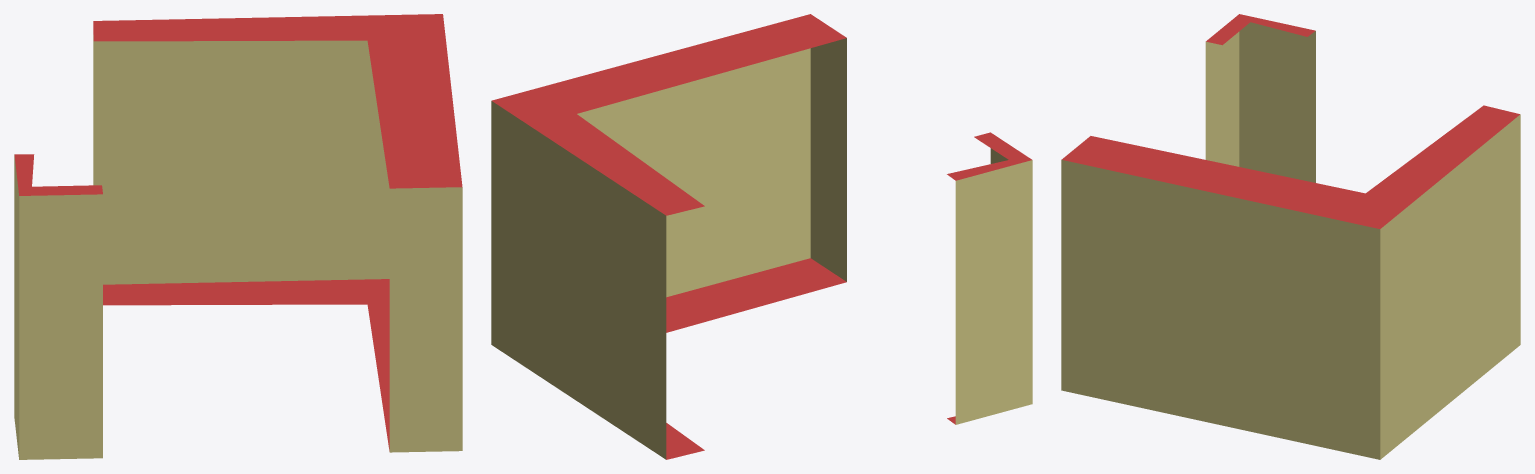
3 renders of one model, left to right at view 1: azimuth 30°, elevation 25°; view 2: azimuth 150°, elevation 25°; view 3: azimuth 270°, elevation 25°, orthographic. The views are drawn at different scales.
Visible parts, largest first — view 1: group_4, group_3, group_5; view 2: group_4, group_3, group_5; view 3: group_4, group_3.
Part boxes in pixels (left/top/right/bottom): group_4: left=14, top=35, right=462, bottom=459; group_3: left=14, top=14, right=462, bottom=195; group_5: left=103, top=279, right=389, bottom=451; group_4: left=491, top=38, right=1032, bottom=459; group_3: left=492, top=14, right=1031, bottom=215; group_5: left=666, top=258, right=955, bottom=459; group_4: left=1061, top=22, right=1520, bottom=459; group_3: left=1061, top=14, right=1519, bottom=228.
Bounding box in the file's own units: 16.28 × 14.68 × 8.14.
